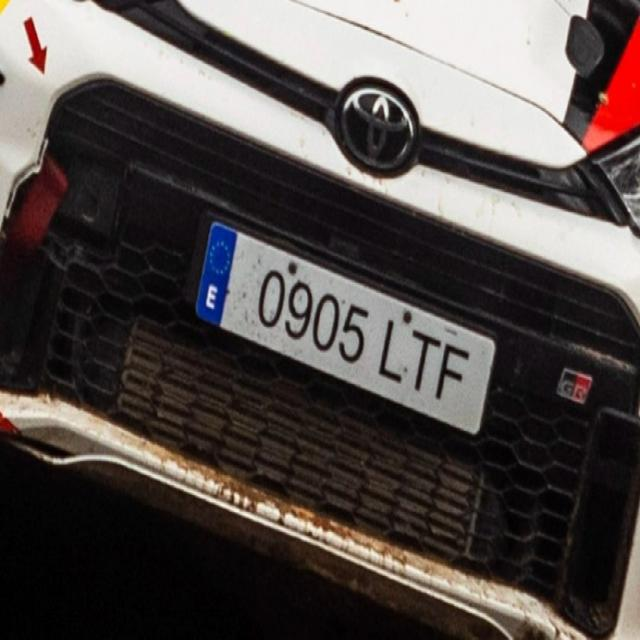license_plate-34Td: (196, 222, 495, 434)
